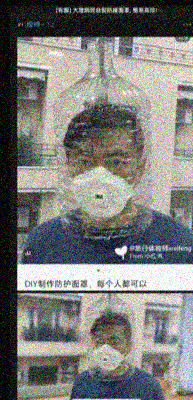with_mask: (68, 149, 134, 218), (91, 335, 127, 371)
